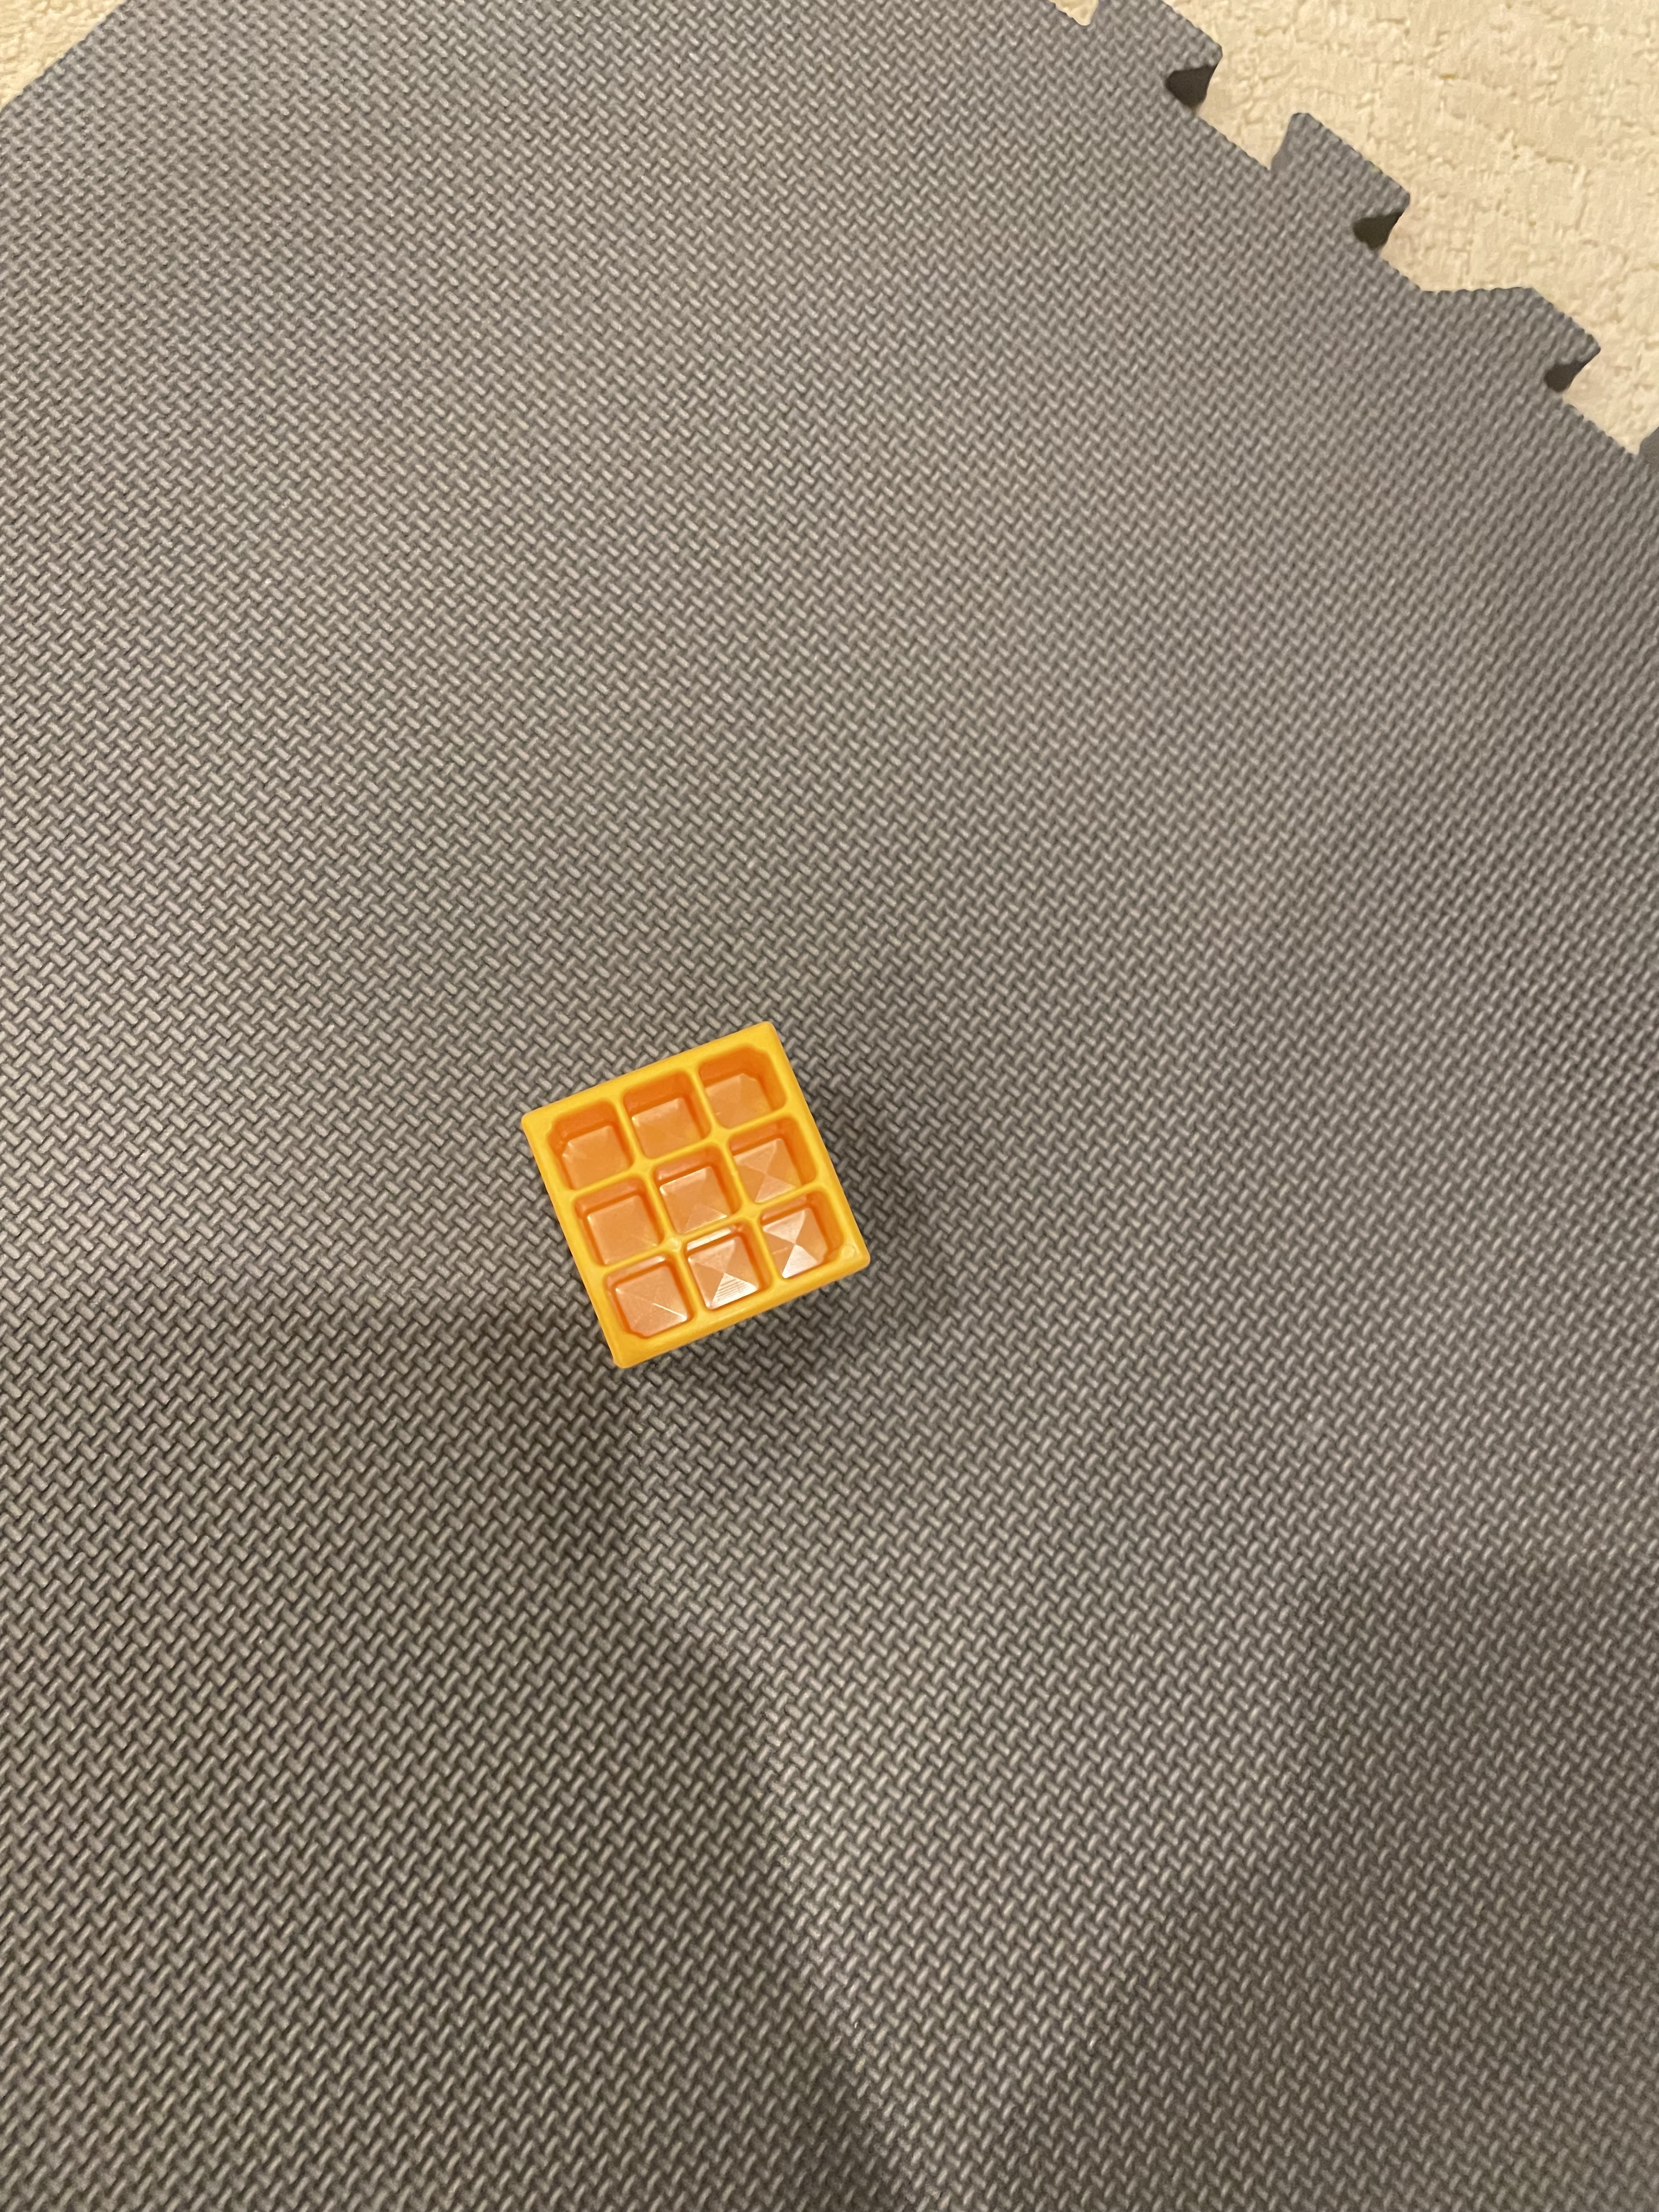cube: (450, 972, 913, 1414)
